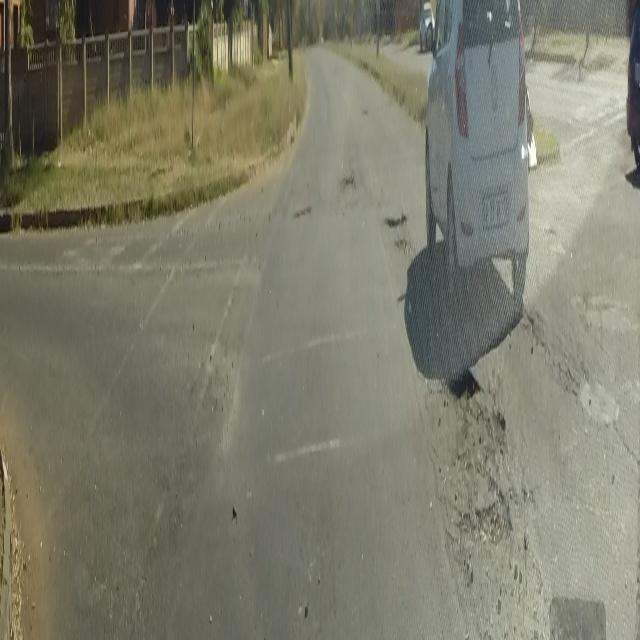pothole: (427, 374, 524, 604), (382, 207, 408, 231), (292, 202, 312, 218), (344, 168, 356, 188)
